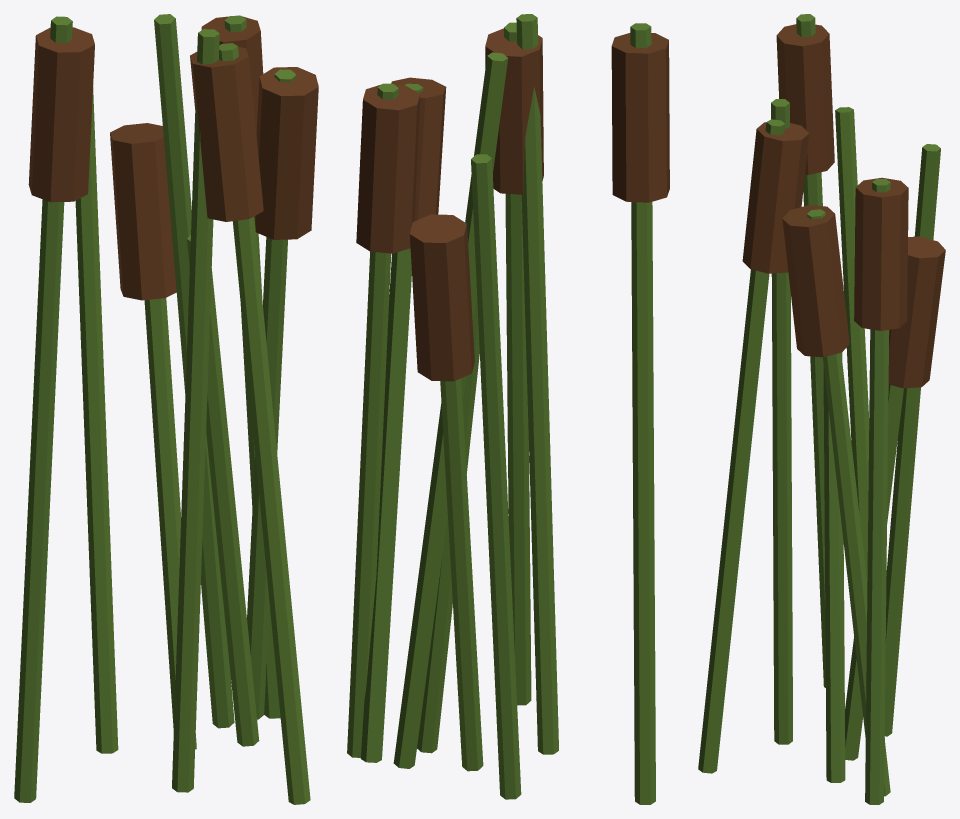
File: deco_reed_lite.glb
3 views of the same model, side by side, from view 1: azimuth 30°, elevation 25°; view 2: azimuth 150°, elevation 25°; view 3: azimuth 270°, elevation 25° (orthographic). The views are drawn at different scales.
Visible parts, largest first — view 1: Cylinder; view 2: Cylinder; view 3: Cylinder.
Part boxes in pixels (x1,y1,x2,y2): Cylinder: (14,14,318,804); Cylinder: (347,14,669,804); Cylinder: (698,14,945,804).
Bounding box in the file's own units: 0.764 × 1.98 × 0.6539.
